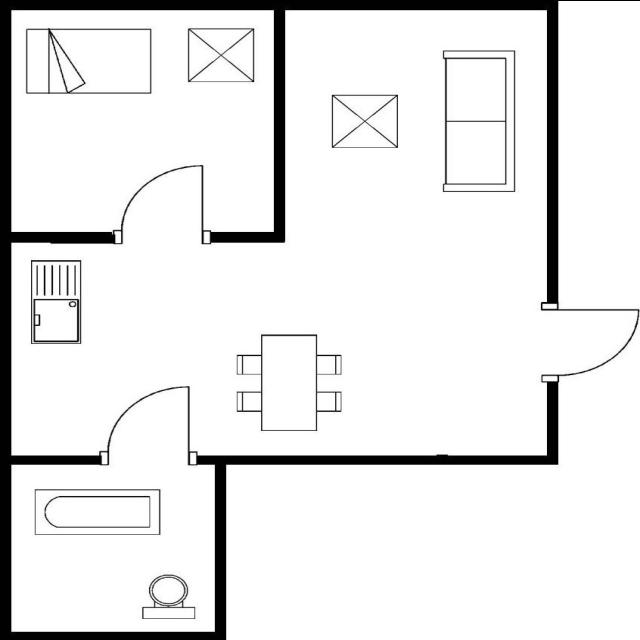bed: (22, 25, 155, 97)
coffee_table: (327, 91, 402, 151), (184, 26, 258, 85)
dining_table: (232, 329, 344, 434)
large_sink: (138, 572, 198, 622)
large_sofa: (439, 46, 517, 194)
sink: (26, 257, 84, 345)
tub: (30, 484, 164, 540)
